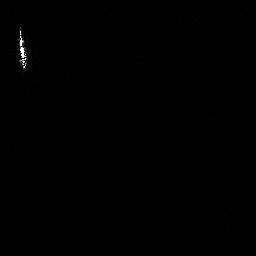ship: (15, 27, 37, 70)
